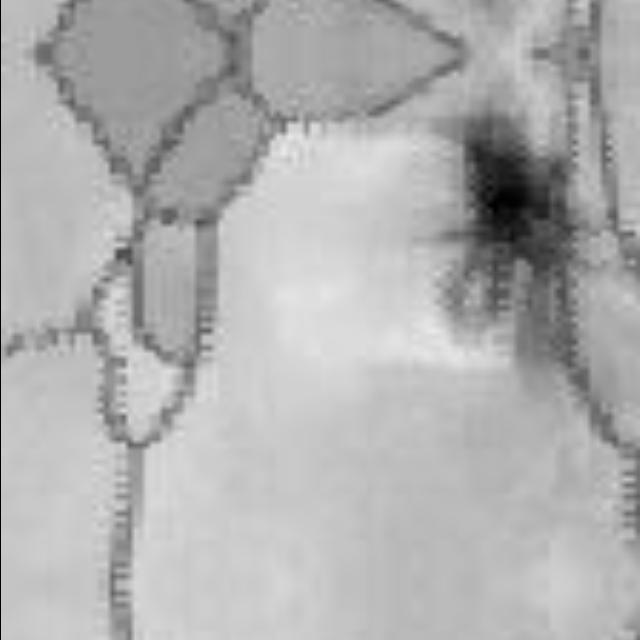good_void: (429, 115, 595, 372)
